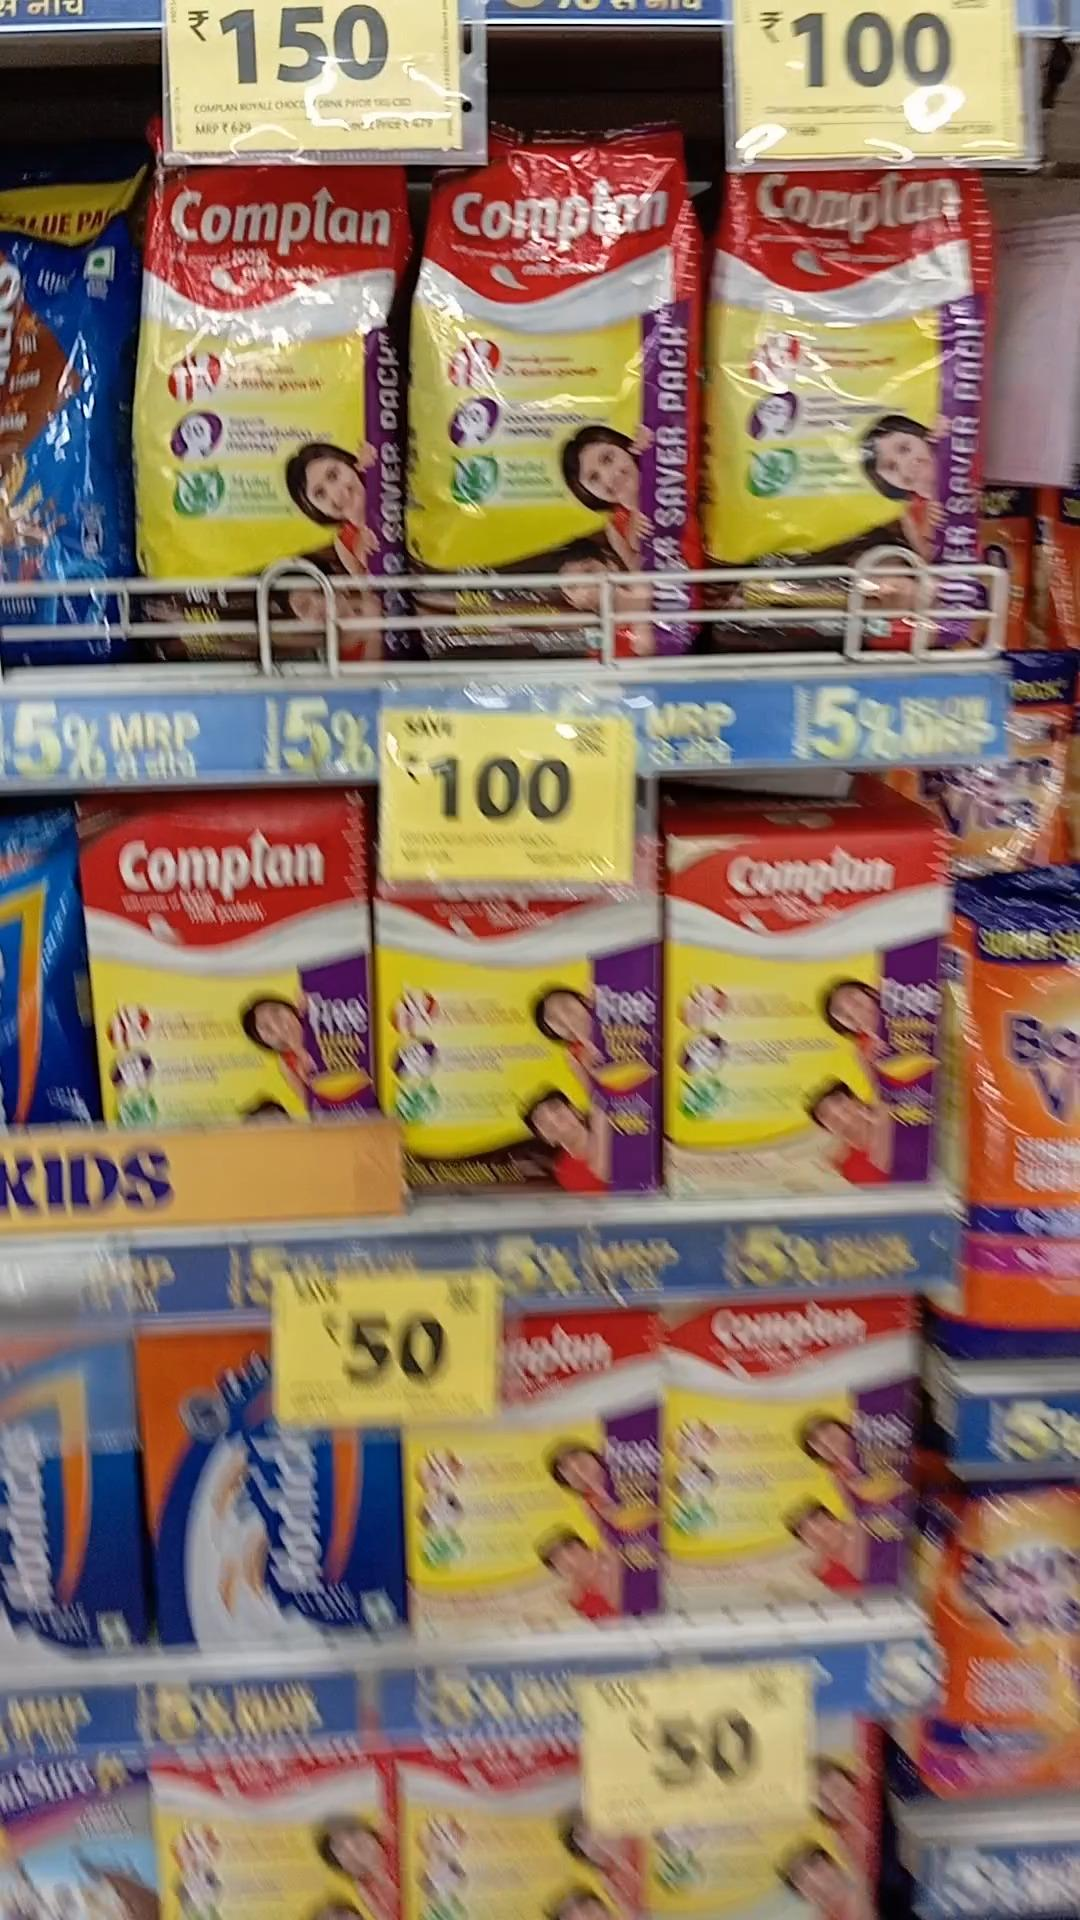COMPLAN_CHOCOLATE_500_GMS_PACK: (368, 894, 657, 1211), (82, 806, 353, 1126)
COMPLAN_KESAR_BADAM_500_GMS_PACK: (667, 835, 949, 1208), (413, 1308, 654, 1630), (661, 1303, 913, 1597)
COMPLAN_RC_POUCH_700_GMS_12: (401, 140, 680, 654), (128, 150, 393, 663), (720, 158, 982, 650)
HORLICK_CLASSIC_MALT_500_G_PACK: (153, 1308, 396, 1654)
